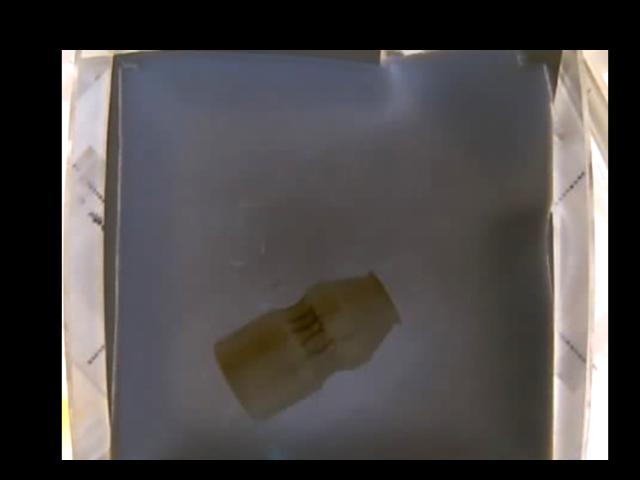Bottle: (215, 272, 404, 420)
